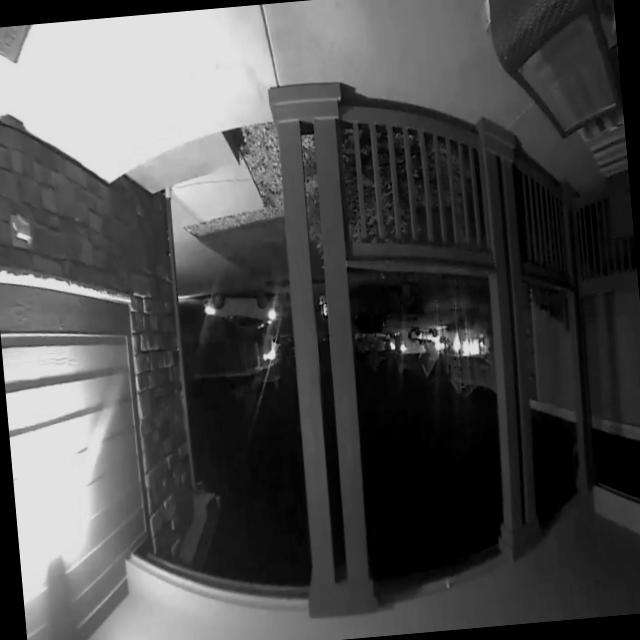car: (312, 264, 430, 349), (193, 270, 282, 344), (409, 322, 444, 359)
